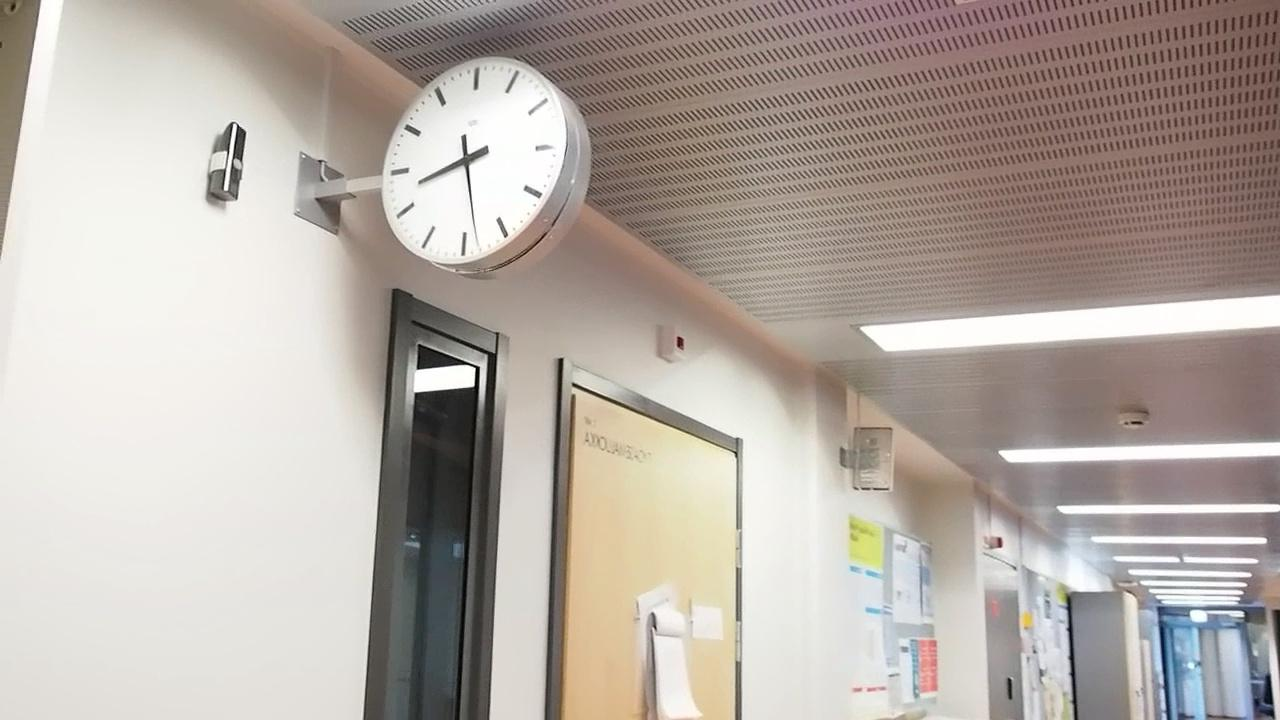clock: (365, 46, 591, 278)
